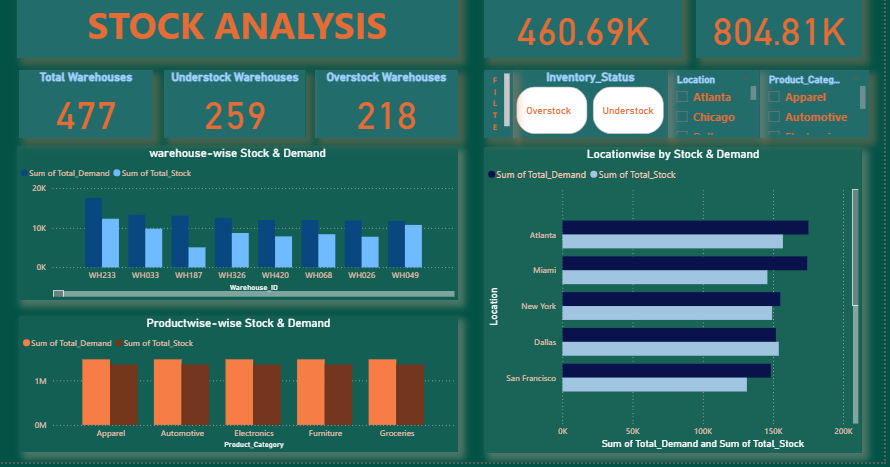

What the dashboard file says about the page in this screenshot:
{"tool":"powerbi","page":{"name":"Page 1","canvas":[1280,720],"ordinal":0},"visuals":[{"type":"clusteredColumnChart","title":"warehouse-wise Stock & Demand","fields":{"Category":["supply_chain_db inventory_summary.Warehouse_ID"],"Y":["Sum(supply_chain_db inventory_summary.Total_Demand)","Sum(supply_chain_db inventory_summary.Total_Stock)"]},"box":[30.2,265,635,221.8],"z":0},{"type":"card","title":"Total Warehouses","fields":{"Values":["CountNonNull(supply_chain_db inventory_summary.Warehouse_ID)"]},"box":[33.1,155.5,193,97.9],"z":1000},{"type":"card","title":"Understock Warehouses","fields":{"Values":["CountNonNull(supply_chain_db inventory_summary.Warehouse_ID)"]},"box":[241.9,155.5,204.5,97.9],"z":2000},{"type":"card","title":"Overstock Warehouses","fields":{"Values":["CountNonNull(supply_chain_db inventory_summary.Warehouse_ID)"]},"box":[459.4,155.5,205.9,97.9],"z":3000},{"type":"card","title":"Total Demand","fields":{"Values":["Sum(supply_chain_db inventory_summary.Total_Demand)"]},"box":[702.7,30.2,285.1,108],"z":4000},{"type":"card","title":"Total Stock","fields":{"Values":["Sum(supply_chain_db inventory_summary.Total_Stock)"]},"box":[1007.4,29.9,239.4,108.1],"z":5000},{"type":"clusteredBarChart","title":"Locationwise by Stock & Demand","fields":{"Category":["supply_chain_db inventory_summary.Location"],"Y":["Sum(supply_chain_db inventory_summary.Total_Demand)","Sum(supply_chain_db inventory_summary.Total_Stock)"]},"box":[702.7,265,544.3,440.6],"z":6000},{"type":"advancedSlicerVisual","fields":{"Values":["supply_chain_db inventory_summary.Inventory_Status"]},"box":[744.5,155.5,223.2,97.9],"z":7000},{"type":"slicer","fields":{"Values":["supply_chain_db inventory_summary.Location"]},"box":[967.7,155.5,132.5,97.9],"z":8000},{"type":"textbox","box":[30.2,30.2,635,108],"z":9000},{"type":"textbox","box":[702.7,155.5,41.8,97.9],"z":10000},{"type":"clusteredColumnChart","title":"Productwise-wise Stock & Demand","fields":{"Y":["Sum(supply_chain_db inventory_summary.Total_Demand)","Sum(supply_chain_db inventory_summary.Total_Stock)"],"Category":["supply_chain_db warehouse_data.Product_Category"]},"box":[33.1,509.8,632.2,195.8],"z":11000},{"type":"slicer","fields":{"Values":["supply_chain_db warehouse_data.Product_Category"]},"box":[1100.2,155.5,157,97.9],"z":12000}]}

Visuals, with their boxes on the page's 1280x720 design canvas (x1, y1, x2, y2). These are canvas units, not pixel positions in the 890x467 screenshot, which may show the page scaled, cropped or inside an application window:
"warehouse-wise Stock & Demand" clusteredColumnChart: pyautogui.locateOnScreen(30, 265, 665, 487)
"Total Warehouses" card: pyautogui.locateOnScreen(33, 156, 226, 253)
"Understock Warehouses" card: pyautogui.locateOnScreen(242, 156, 446, 253)
"Overstock Warehouses" card: pyautogui.locateOnScreen(459, 156, 665, 253)
"Total Demand" card: pyautogui.locateOnScreen(703, 30, 988, 138)
"Total Stock" card: pyautogui.locateOnScreen(1007, 30, 1247, 138)
"Locationwise by Stock & Demand" clusteredBarChart: pyautogui.locateOnScreen(703, 265, 1247, 706)
advancedSlicerVisual - supply_chain_db inventory_summary.Inventory_Status: pyautogui.locateOnScreen(744, 156, 968, 253)
slicer - supply_chain_db inventory_summary.Location: pyautogui.locateOnScreen(968, 156, 1100, 253)
textbox: pyautogui.locateOnScreen(30, 30, 665, 138)
textbox: pyautogui.locateOnScreen(703, 156, 744, 253)
"Productwise-wise Stock & Demand" clusteredColumnChart: pyautogui.locateOnScreen(33, 510, 665, 706)
slicer - supply_chain_db warehouse_data.Product_Category: pyautogui.locateOnScreen(1100, 156, 1257, 253)
